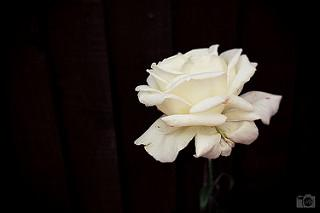Rose: (130, 51, 284, 164)
